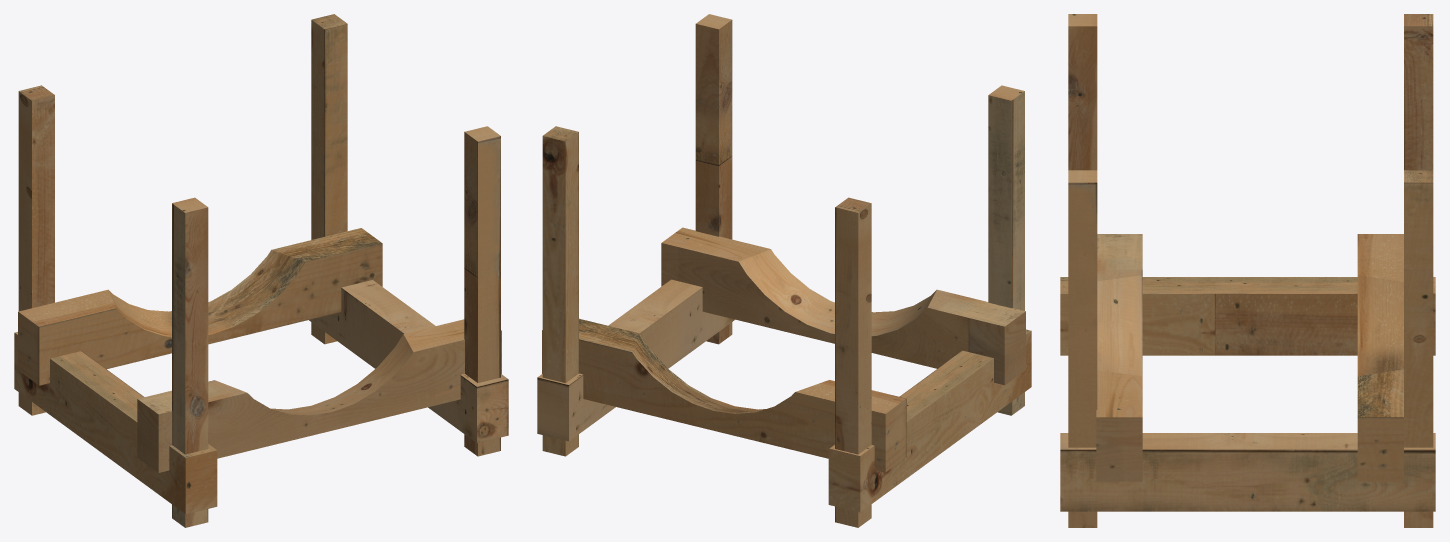
File: Barrel_Holder.fbx
3 renders of one model, left to right at view 1: azimuth 30°, elevation 25°; view 2: azimuth 150°, elevation 25°; view 3: azimuth 270°, elevation 25°, orthographic. The views are drawn at different scales.
Visible parts, largest first — view 1: Barrel_Holder; view 2: Barrel_Holder; view 3: Barrel_Holder.
Boxes of the visible parts, bbox=[...] form: Barrel_Holder: bbox=[14, 14, 508, 527]; Barrel_Holder: bbox=[537, 14, 1031, 527]; Barrel_Holder: bbox=[1060, 14, 1435, 527].
Size of the model in its own units: 99.91 by 87.59 by 86.33.
Materials: 1 (1 with a texture image).
